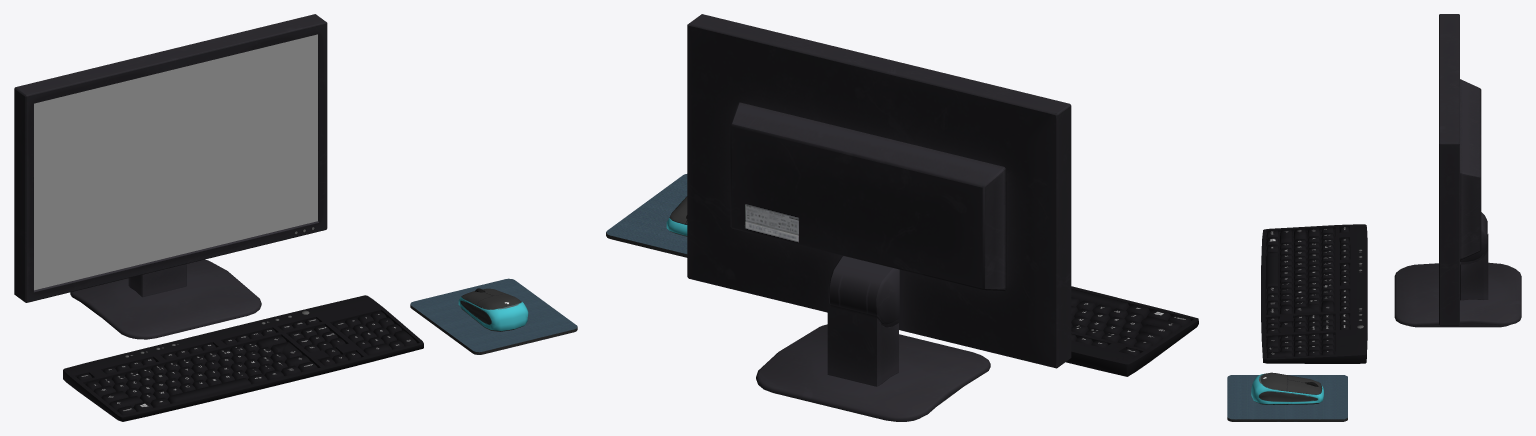
Rendered from Ordinateur.FBX.
3 views of the same model, side by side, from view 1: azimuth 30°, elevation 25°; view 2: azimuth 150°, elevation 25°; view 3: azimuth 270°, elevation 25° (orthographic). The views are drawn at different scales.
Visible parts, largest first — view 1: ecran, clavier, souris; view 2: ecran, clavier, souris; view 3: ecran, clavier, souris.
Boxes of the visible parts, left/top/right/bottom form: ecran: left=14, top=14, right=327, bottom=339; clavier: left=63, top=295, right=423, bottom=421; souris: left=410, top=278, right=577, bottom=354; ecran: left=687, top=14, right=1071, bottom=421; clavier: left=1066, top=286, right=1198, bottom=376; souris: left=606, top=174, right=687, bottom=257; ecran: left=1394, top=14, right=1521, bottom=327; clavier: left=1261, top=224, right=1367, bottom=363; souris: left=1227, top=372, right=1347, bottom=421.
Bounding box in the file's own units: 73.58 × 40.4 × 48.47.
